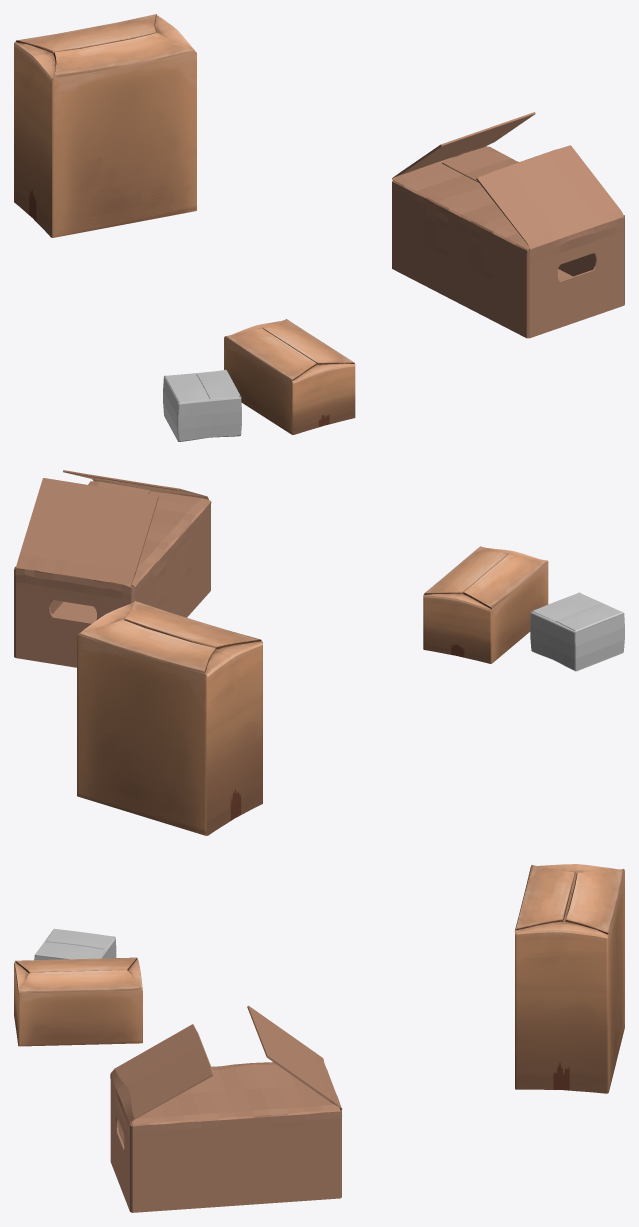
File: MDL_Bedroom_Boxes_01.fbx
3 views of the same model, one above another, from view 1: azimuth 30°, elevation 25°; view 2: azimuth 150°, elevation 25°; view 3: azimuth 270°, elevation 25° (orthographic). The views are drawn at different scales.
Visible parts, largest first — view 1: MDL_Mainbox_halfopen.001, MDL_Box_03, MDL_Box_04, MDL_Box_02; view 2: MDL_Box_03, MDL_Mainbox_halfopen.001, MDL_Box_04, MDL_Box_02; view 3: MDL_Mainbox_halfopen.001, MDL_Box_03, MDL_Box_04, MDL_Box_02.
Part boxes in pixels (left/top/right/bottom): MDL_Mainbox_halfopen.001: left=392, top=112, right=624, bottom=338; MDL_Box_03: left=14, top=14, right=196, bottom=237; MDL_Box_04: left=224, top=319, right=355, bottom=434; MDL_Box_02: left=163, top=369, right=241, bottom=441; MDL_Box_03: left=77, top=601, right=262, bottom=835; MDL_Mainbox_halfopen.001: left=14, top=470, right=211, bottom=667; MDL_Box_04: left=423, top=546, right=548, bottom=663; MDL_Box_02: left=530, top=592, right=624, bottom=671; MDL_Mainbox_halfopen.001: left=110, top=1005, right=342, bottom=1212; MDL_Box_03: left=514, top=864, right=624, bottom=1093; MDL_Box_04: left=14, top=957, right=142, bottom=1046; MDL_Box_02: left=34, top=928, right=116, bottom=960.
Bounding box in the file's own units: 251 × 85.46 × 275.
